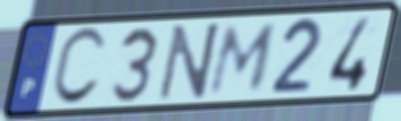2: (269, 14, 325, 97)
3: (106, 23, 160, 105)
4: (325, 13, 374, 94)
C: (48, 24, 110, 110)
M: (204, 21, 282, 98)
N: (155, 19, 224, 103)
